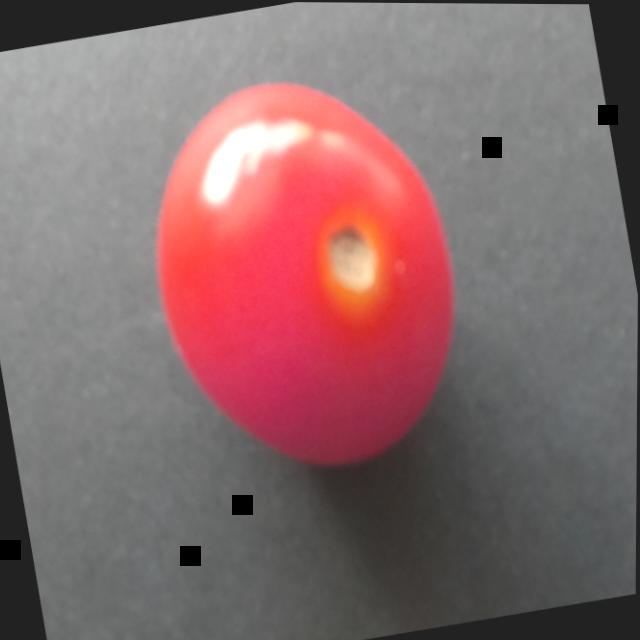Tomato: (87, 18, 504, 524)
